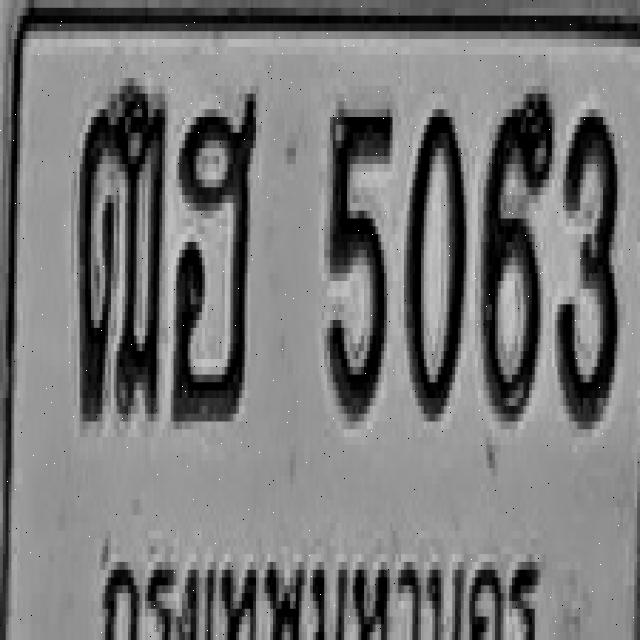0: (404, 101, 466, 422)
27ThorPhuThao: (77, 78, 168, 422)
3: (556, 106, 618, 426)
5: (326, 101, 394, 422)
53HorNokHook: (170, 86, 258, 422)
6: (479, 86, 554, 422)
